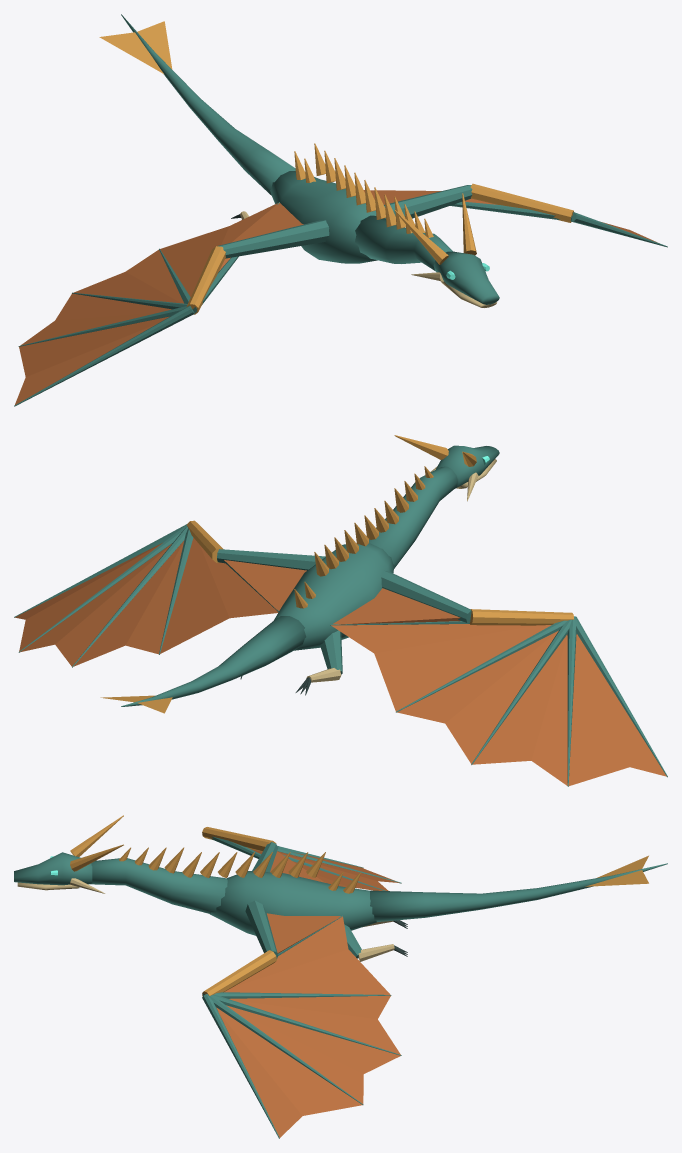
File: bronze-crest.glb
3 views of the same model, one above another, from view 1: azimuth 30°, elevation 25°; view 2: azimuth 150°, elevation 25°; view 3: azimuth 270°, elevation 25° (orthographic). The views are drawn at different scales.
Visible parts, largest first — view 1: Left scalloped sail, Chest and haunches, Tapered tail, Serpentine neck, Left humerus, Crowned head, Right leading edge, Right humerus, Left finger 0, Left inner sail, Left leading edge, Tail fin (+5 smaller); view 2: Left scalloped sail, Right scalloped sail, Chest and haunches, Tapered tail, Serpentine neck, Left inner sail, Right inner sail, Left humerus, Left leading edge, Right humerus, Crowned head, Left finger 1 (+9 smaller); view 3: Right scalloped sail, Chest and haunches, Tapered tail, Serpentine neck, Crowned head, Right inner sail, Left scalloped sail, Right leading edge, Right humerus, Right finger 2, Right finger 1, Right finger 0 (+3 smaller).
Part boxes in pixels (x1,y1,x2,y2): Left scalloped sail: (15,203,277,404); Chest and haunches: (270,171,385,263); Tapered tail: (121,14,295,195); Serpentine neck: (355,215,452,270); Left humerus: (217,220,329,258); Crowned head: (433,251,499,304); Right leading edge: (470,183,573,222); Right humerus: (384,185,472,218); Left finger 0: (14,306,194,406); Left inner sail: (219,203,303,270); Left leading edge: (186,246,225,314); Tail fin: (99,32,164,74); Left scalloped sail: (331,624,666,785); Right scalloped sail: (15,538,278,666); Chest and haunches: (274,543,394,650); Tapered tail: (121,616,306,706); Serpentine neck: (369,466,457,568); Left inner sail: (333,588,460,624); Right inner sail: (224,560,306,610); Left humerus: (381,570,471,623); Left leading edge: (470,609,574,625); Right humerus: (217,549,325,570); Crowned head: (436,445,499,488); Left finger 1: (567,618,576,786); Right scalloped sail: (216,916,400,1137); Chest and haunches: (210,871,376,935); Tapered tail: (370,863,667,921); Serpentine neck: (88,858,227,913); Crowned head: (14,852,92,885); Right inner sail: (267,913,340,953); Left scalloped sail: (278,851,399,890); Right leading edge: (202,950,276,996); Right humerus: (245,900,278,958); Right finger 2: (211,994,401,1055); Right finger 1: (207,994,363,1104); Right finger 0: (202,994,279,1138).
Size of the model in its own units: 35.86 by 9.95 by 35.1.
